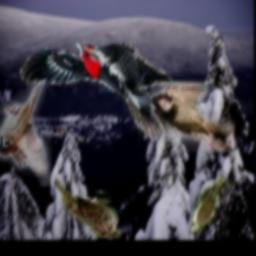Cuckoo: (190, 169, 225, 234)
Sparrow: (149, 81, 234, 152), (0, 81, 52, 187), (54, 179, 120, 239)
Woodpecker: (20, 37, 173, 139)
